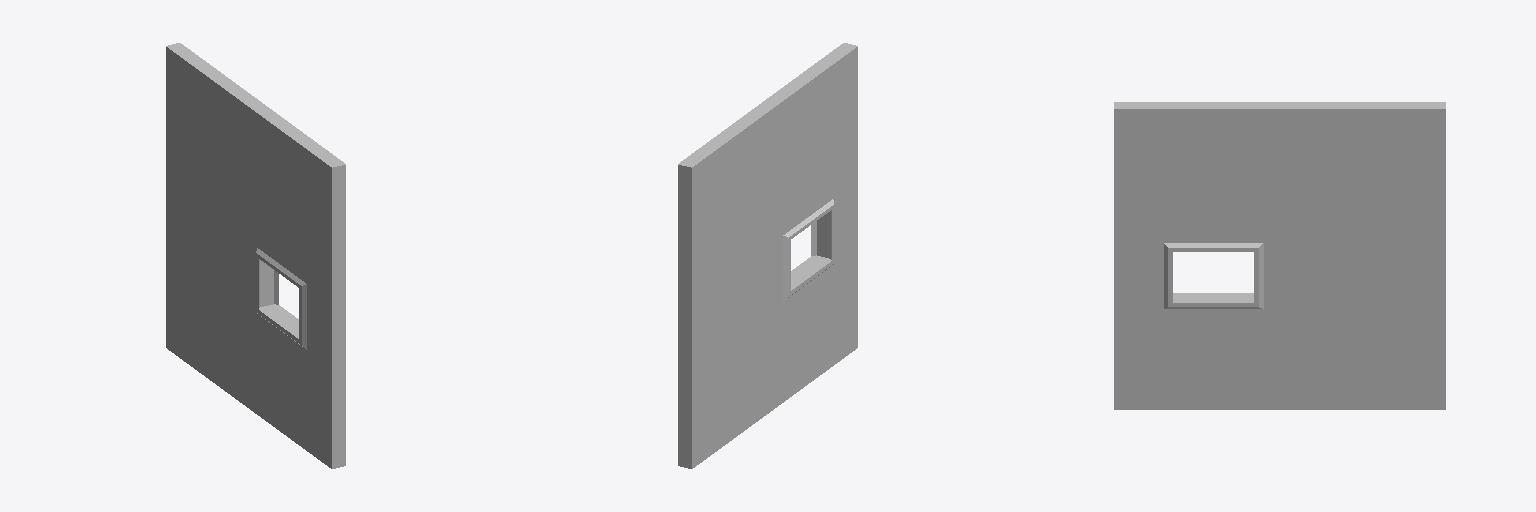
Rendered from mod_wall_3.obj.
3 renders of one model, left to right at view 1: azimuth 30°, elevation 25°; view 2: azimuth 150°, elevation 25°; view 3: azimuth 270°, elevation 25°, orthographic.
Visible parts, largest first — view 1: pCube1; view 2: pCube1; view 3: pCube1.
Boxes of the visible parts, box(x1,y1,x2,y2) form: pCube1: box(166, 43, 345, 468); pCube1: box(678, 43, 857, 468); pCube1: box(1114, 102, 1445, 409).
Size of the model in its own units: 1.42 by 20 by 20.